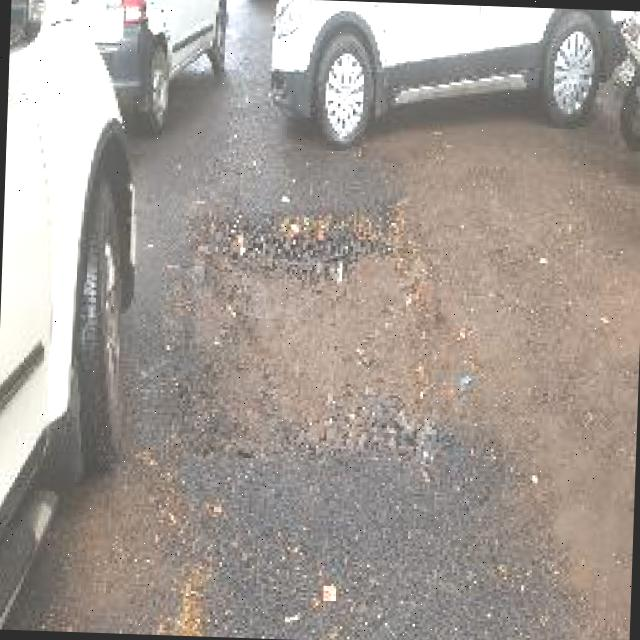stagnation: (168, 211, 480, 454)
